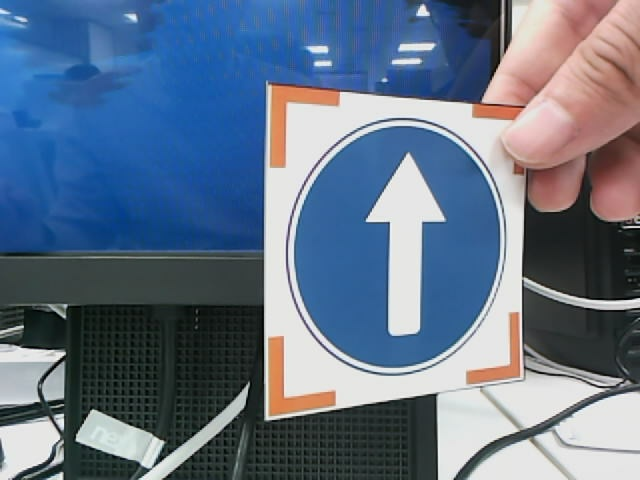go: (285, 117, 508, 377)
